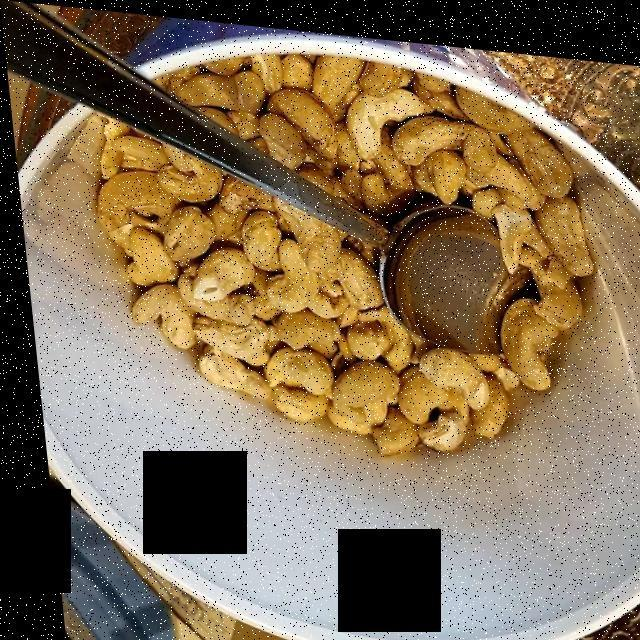cashew-nut: (98, 49, 607, 449)
